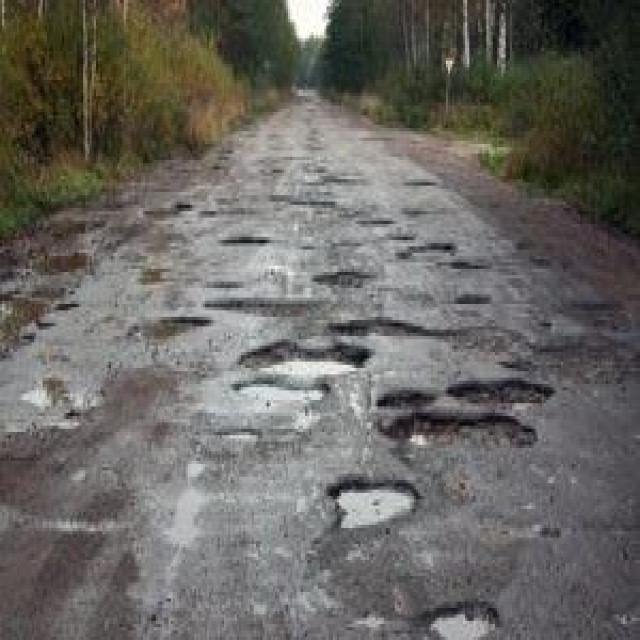lubang: (0, 353, 194, 570), (371, 404, 538, 471), (1, 200, 130, 286), (8, 357, 132, 433), (1, 270, 80, 365), (318, 470, 418, 534), (434, 447, 514, 527), (552, 282, 638, 342), (481, 502, 576, 553), (235, 333, 371, 368), (444, 374, 554, 410), (422, 589, 502, 637), (538, 336, 625, 378), (232, 368, 333, 403), (511, 234, 583, 278), (352, 381, 435, 416), (204, 417, 274, 458), (121, 247, 186, 291), (347, 594, 410, 638), (589, 514, 640, 568), (198, 291, 312, 314), (143, 310, 215, 346), (322, 314, 435, 336), (439, 323, 525, 349), (140, 194, 198, 230), (300, 233, 370, 262), (303, 160, 369, 190), (272, 420, 310, 462), (396, 240, 458, 262), (200, 158, 244, 188), (606, 600, 640, 634), (264, 189, 335, 205), (621, 336, 640, 387), (314, 269, 369, 285), (438, 259, 487, 275), (220, 230, 266, 247), (448, 292, 489, 310), (303, 128, 329, 153), (256, 163, 285, 180), (359, 130, 394, 144), (356, 211, 391, 224), (403, 173, 431, 189), (538, 313, 556, 335), (403, 202, 425, 214)
